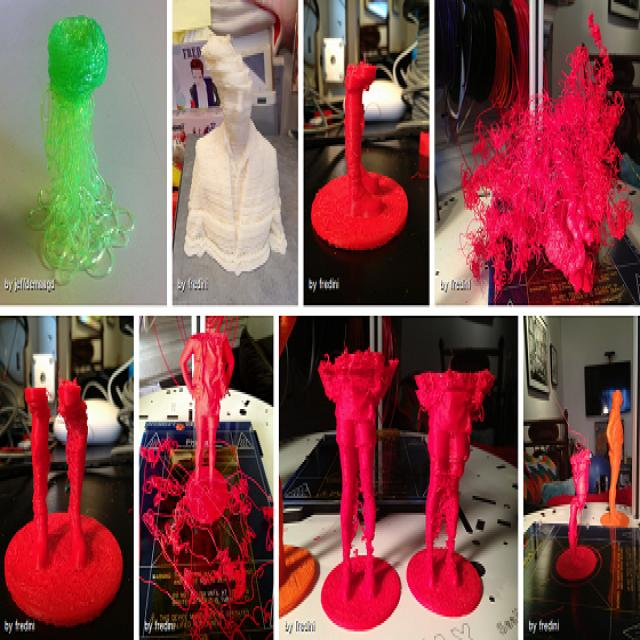spaghetti: (452, 10, 640, 292), (139, 438, 273, 640), (36, 117, 144, 280)
